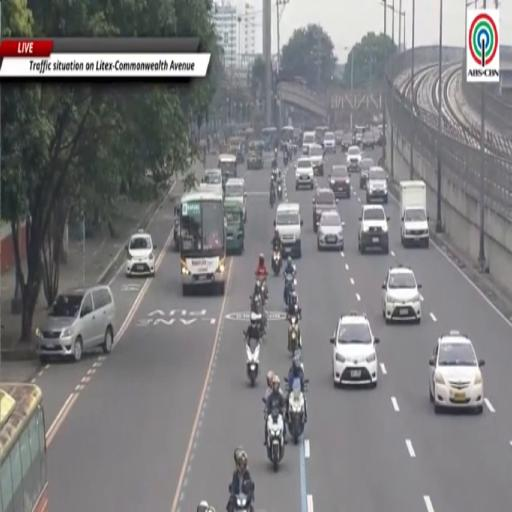bus: (0, 383, 47, 511), (180, 185, 226, 295), (261, 126, 278, 150), (280, 126, 294, 150)
car: (36, 285, 115, 363), (429, 331, 485, 413), (330, 312, 379, 387), (382, 266, 421, 323), (274, 203, 303, 258), (358, 205, 389, 253), (126, 230, 156, 277), (312, 187, 337, 232), (318, 211, 344, 250), (225, 179, 247, 221), (366, 167, 388, 203), (329, 165, 350, 198), (295, 157, 314, 189), (309, 144, 324, 175), (360, 157, 375, 188), (346, 146, 362, 172), (201, 168, 222, 184), (340, 132, 354, 153), (302, 132, 315, 154), (323, 132, 335, 153), (361, 131, 375, 149), (354, 125, 366, 145), (335, 131, 343, 146)
jeepney: (224, 201, 244, 254), (218, 154, 237, 188), (247, 141, 264, 169), (228, 137, 245, 163), (174, 202, 180, 252)
motorcycle: (288, 379, 305, 444), (267, 410, 284, 471), (250, 295, 266, 339), (246, 340, 260, 387), (288, 314, 302, 354), (251, 303, 266, 340), (228, 493, 254, 511), (284, 274, 296, 308), (234, 493, 253, 511), (272, 250, 282, 276), (259, 279, 267, 306), (277, 180, 282, 200), (270, 187, 275, 207), (283, 152, 288, 166)
truck: (400, 180, 430, 248)
